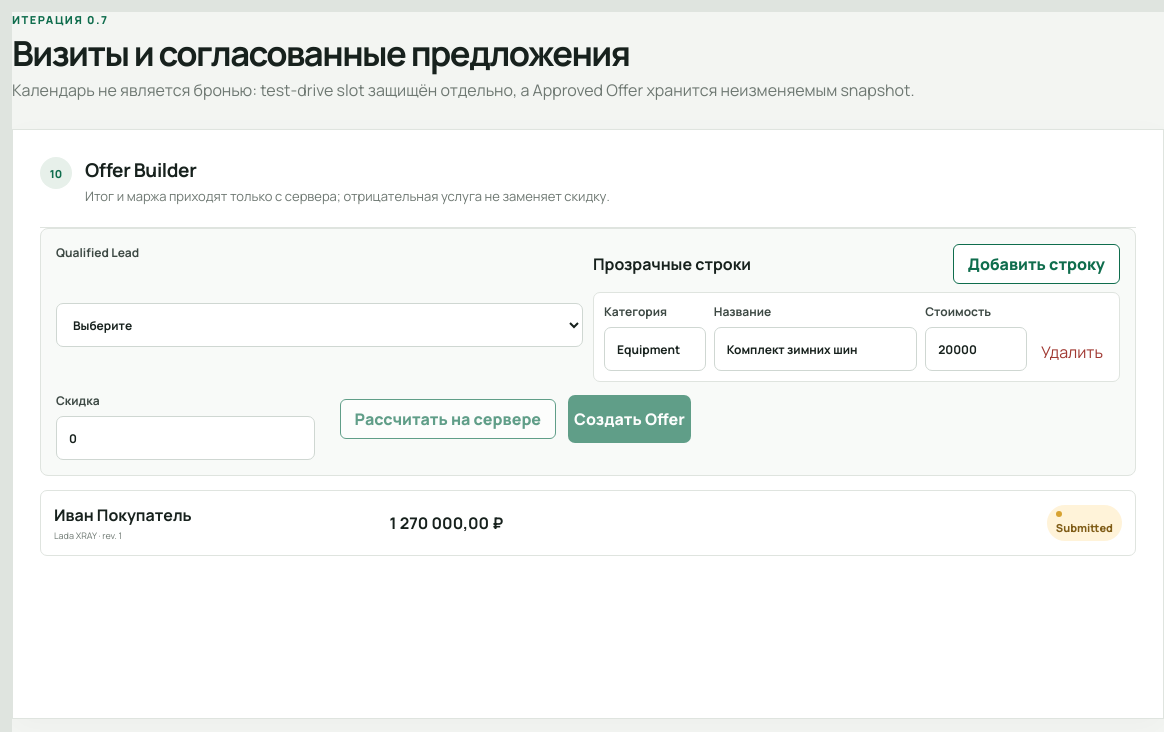
Test case: SalesWorkspace › requires an explicit reason and shows the immutable approved snapshot
What coordinates should you click on to do the following:
click the button "Lada XRAY · rev. 1"
I would click on:
 (123, 515)
Its box is [40, 490, 1136, 556].
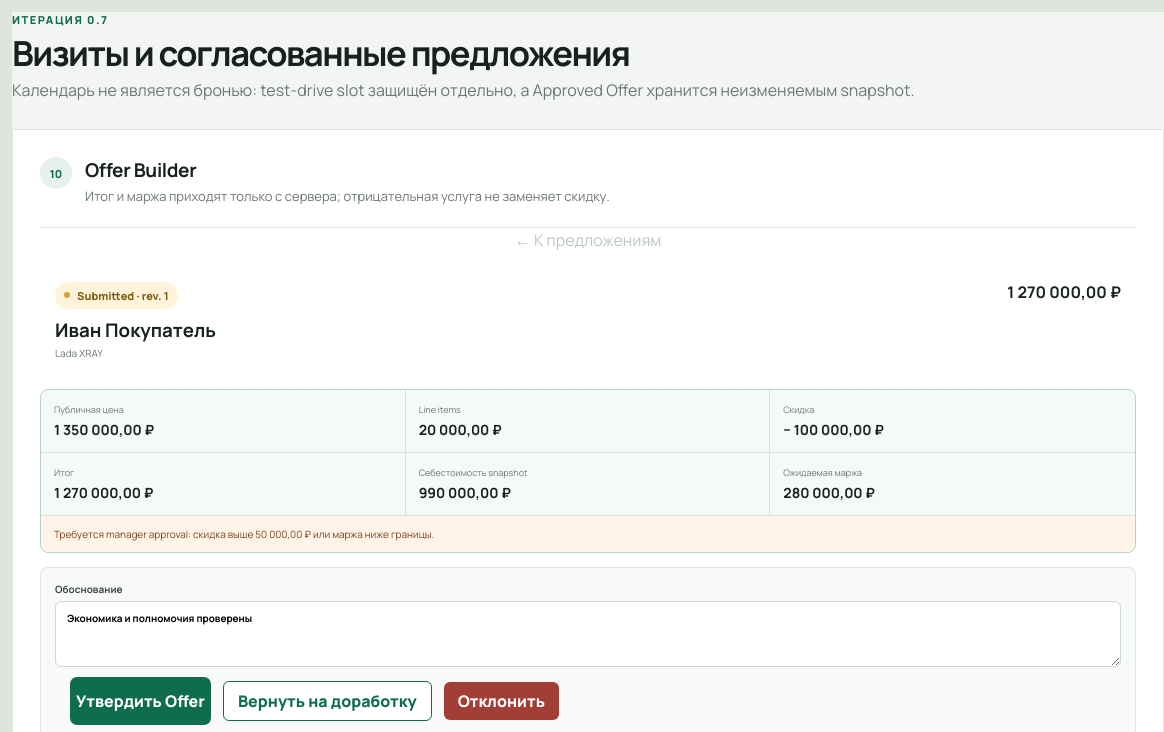
Check: the text box named "Причина решения по Offer" holds "Экономика и полномочия проверены", box [55, 601, 1121, 667]
What coordinates should you click on to do the following:
click the button "Утвердить Offer"
I would click on:
 (140, 701)
Its box is [70, 677, 211, 725].
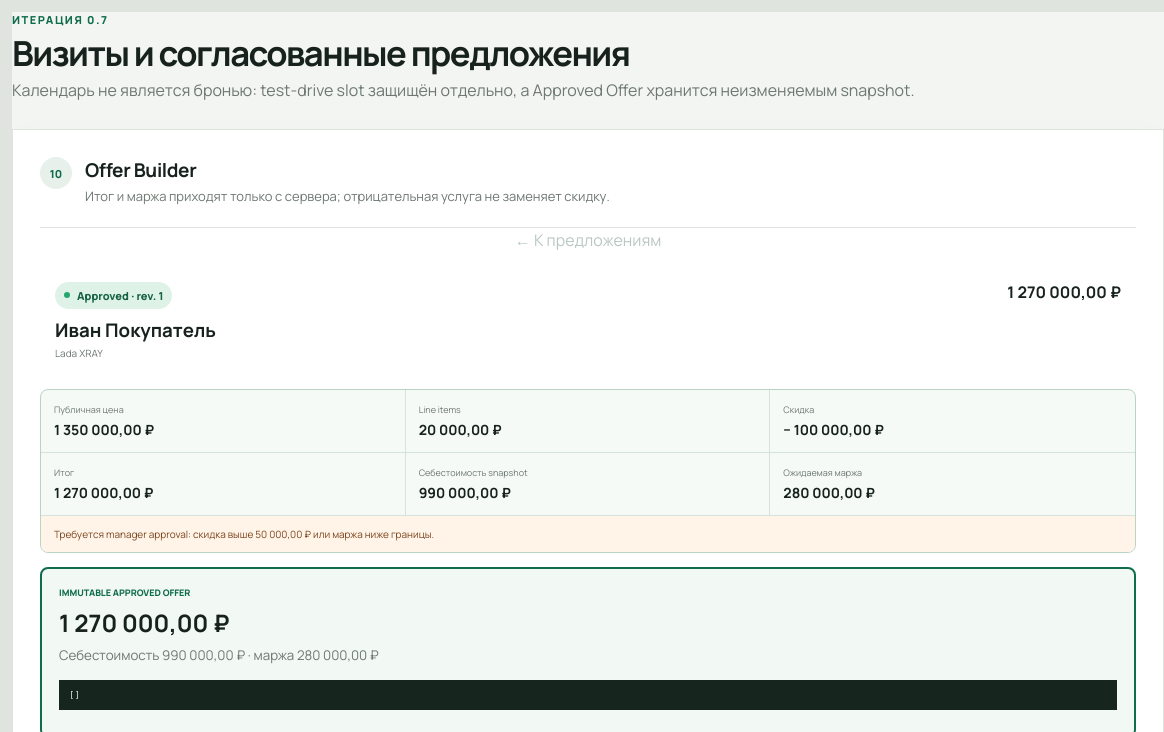
Check: the text "Immutable Approved Offer" is shown, box [59, 586, 190, 599]
